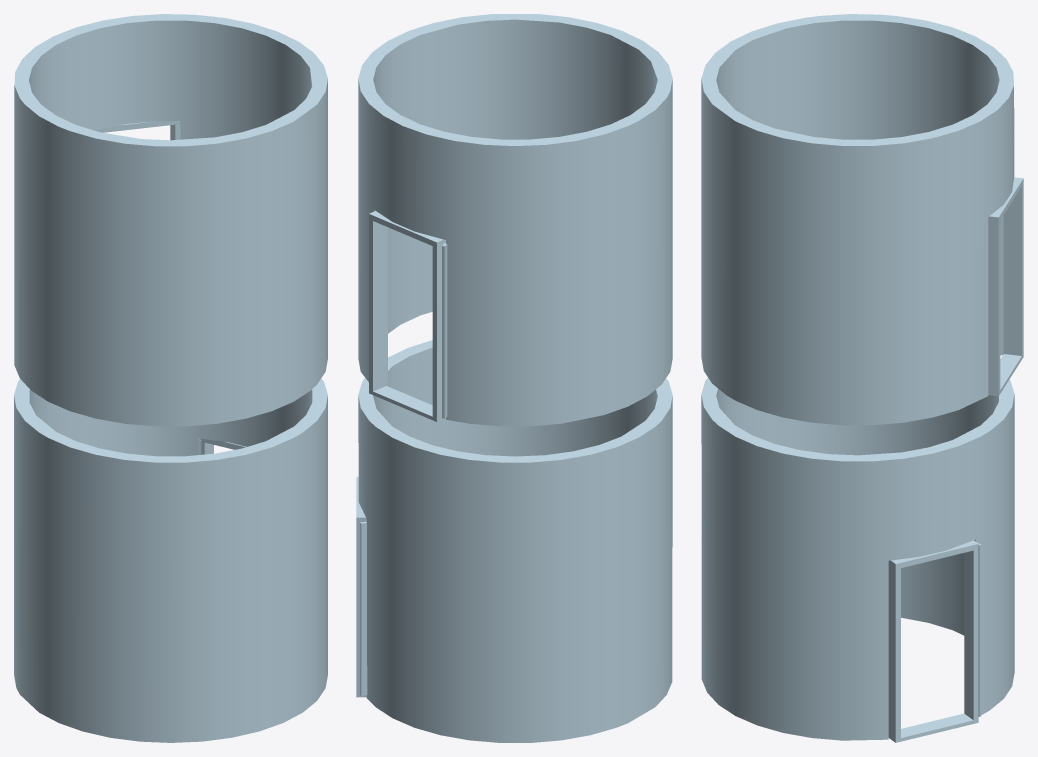
The model's file is elevator_shaft_lod1.glb.
3 views of the same model, side by side, from view 1: azimuth 30°, elevation 25°; view 2: azimuth 150°, elevation 25°; view 3: azimuth 270°, elevation 25° (orthographic).
Visible parts, largest first — view 1: Elevator shell 1, Elevator shell 0; view 2: Elevator shell 1, Elevator shell 0, Elevator door frame 1 (×4), Elevator door track 0, Elevator door track 1, Elevator door frame 0; view 3: Elevator shell 1, Elevator shell 0, Elevator door frame 0 (×4), Elevator door frame 1 (×3), Elevator door track 0.
Boxes of the visible parts, x1=… form: Elevator shell 1: x1=14, y1=14, x2=327, y2=426; Elevator shell 0: x1=14, y1=378, x2=327, y2=742; Elevator shell 1: x1=358, y1=14, x2=672, y2=426; Elevator shell 0: x1=358, y1=340, x2=672, y2=742; Elevator door frame 1 (×4): x1=369, y1=211, x2=445, y2=421; Elevator door track 0: x1=360, y1=521, x2=367, y2=695; Elevator door track 1: x1=442, y1=242, x2=447, y2=418; Elevator door frame 0: x1=356, y1=515, x2=365, y2=693; Elevator shell 1: x1=701, y1=14, x2=1014, y2=425; Elevator shell 0: x1=701, y1=378, x2=1014, y2=740; Elevator door frame 0 (×4): x1=888, y1=540, x2=978, y2=742; Elevator door frame 1 (×3): x1=988, y1=177, x2=1023, y2=396; Elevator door track 0: x1=978, y1=543, x2=981, y2=716.
Bounding box in the file's own units: 3.2 × 6.6 × 3.24.
